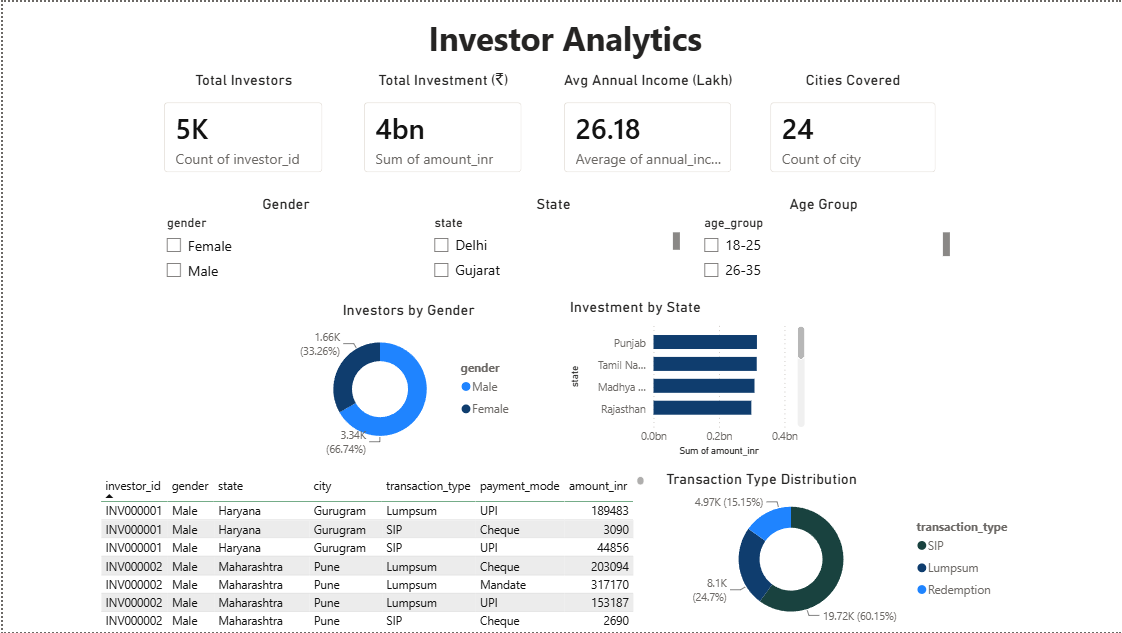

What the dashboard file says about the page in this screenshot:
{"tool":"powerbi","page":{"name":"Investor Analytics","canvas":[1280,720],"ordinal":2},"visuals":[{"type":"textbox","box":[35.5,11.4,1213.5,66.8],"z":0},{"type":"cardVisual","title":"Total Investors","fields":{"Data":["Count(investor_transactions_clean.investor_id)"]},"box":[167.7,78.5,216,133.6],"z":1000},{"type":"cardVisual","title":"Total Investment (₹)","fields":{"Data":["Sum(investor_transactions_clean.amount_inr)"]},"box":[395,78.5,214.6,133.6],"z":2000},{"type":"cardVisual","title":"Avg Annual Income (Lakh)","fields":{"Data":["Avg(investor_transactions_clean.annual_income_lakh)"]},"box":[623.8,78.5,225.9,133.6],"z":3000},{"type":"cardVisual","title":"Cities Covered","fields":{"Data":["Count(investor_transactions_clean.city)"]},"box":[859.7,78.5,223.1,133.6],"z":4000},{"type":"slicer","title":"Gender","fields":{"Values":["investor_transactions_clean.gender"]},"box":[174.8,219.5,298.4,110.8],"z":5000},{"type":"slicer","title":"State","fields":{"Values":["investor_transactions_clean.state"]},"box":[480.3,219.5,298.4,110.8],"z":6000},{"type":"slicer","title":"Age Group","fields":{"Values":["investor_transactions_clean.age_group"]},"box":[788.6,219.5,298.4,110.8],"z":7000},{"type":"donutChart","title":"Investors by Gender","fields":{"Category":["investor_transactions_clean.gender"],"Y":["Count(investor_transactions_clean.investor_id)"]},"box":[333.6,340.7,258.6,183.3],"z":8000},{"type":"clusteredBarChart","title":"Investment by State","fields":{"Category":["investor_transactions_clean.state"],"Y":["Sum(investor_transactions_clean.amount_inr)"]},"box":[643.4,337.9,278.5,186.1],"z":9000},{"type":"tableEx","fields":{"Values":["investor_transactions_clean.investor_id","investor_transactions_clean.gender","investor_transactions_clean.state","investor_transactions_clean.city","investor_transactions_clean.transaction_type","investor_transactions_clean.payment_mode","investor_transactions_clean.amount_inr"]},"box":[105.2,537.1,632.3,183.3],"z":10000},{"type":"donutChart","title":"Transaction Type Distribution","fields":{"Category":["investor_transactions_clean.transaction_type"],"Y":["CountNonNull(investor_transactions_clean.investor_id)"]},"box":[753.1,534.3,414.9,186.1],"z":11000}]}

Visuals, with their boxes in screenshot pixels (x1, y1, x2, y2), scaled from the page's 1280x720 canvas onto the 1122x633 screenshot:
textbox: detection(31, 10, 1095, 69)
"Total Investors" cardVisual: detection(147, 69, 336, 186)
"Total Investment (₹)" cardVisual: detection(346, 69, 534, 186)
"Avg Annual Income (Lakh)" cardVisual: detection(547, 69, 745, 186)
"Cities Covered" cardVisual: detection(754, 69, 949, 186)
"Gender" slicer: detection(153, 193, 415, 290)
"State" slicer: detection(421, 193, 683, 290)
"Age Group" slicer: detection(691, 193, 953, 290)
"Investors by Gender" donutChart: detection(292, 300, 519, 461)
"Investment by State" clusteredBarChart: detection(564, 297, 808, 461)
tableEx - investor_transactions_clean.investor_id x investor_transactions_clean.gender: detection(92, 472, 646, 632)
"Transaction Type Distribution" donutChart: detection(660, 470, 1024, 632)
